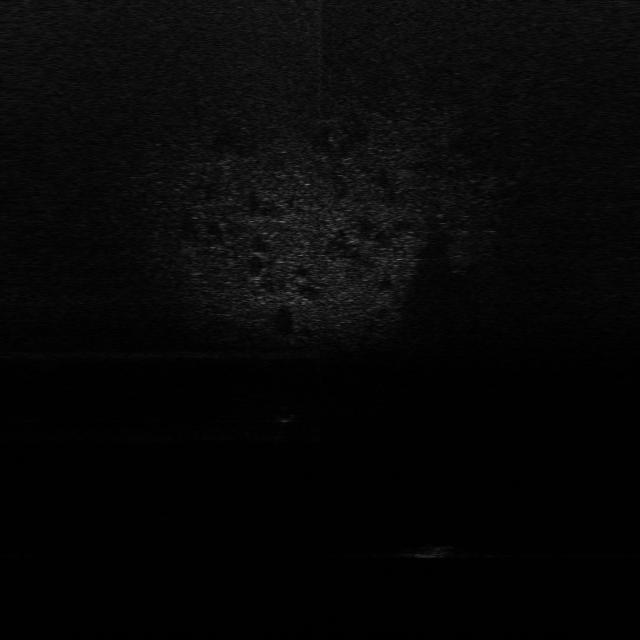ball: (276, 404, 298, 424)
metal bucket: (404, 538, 464, 564)
